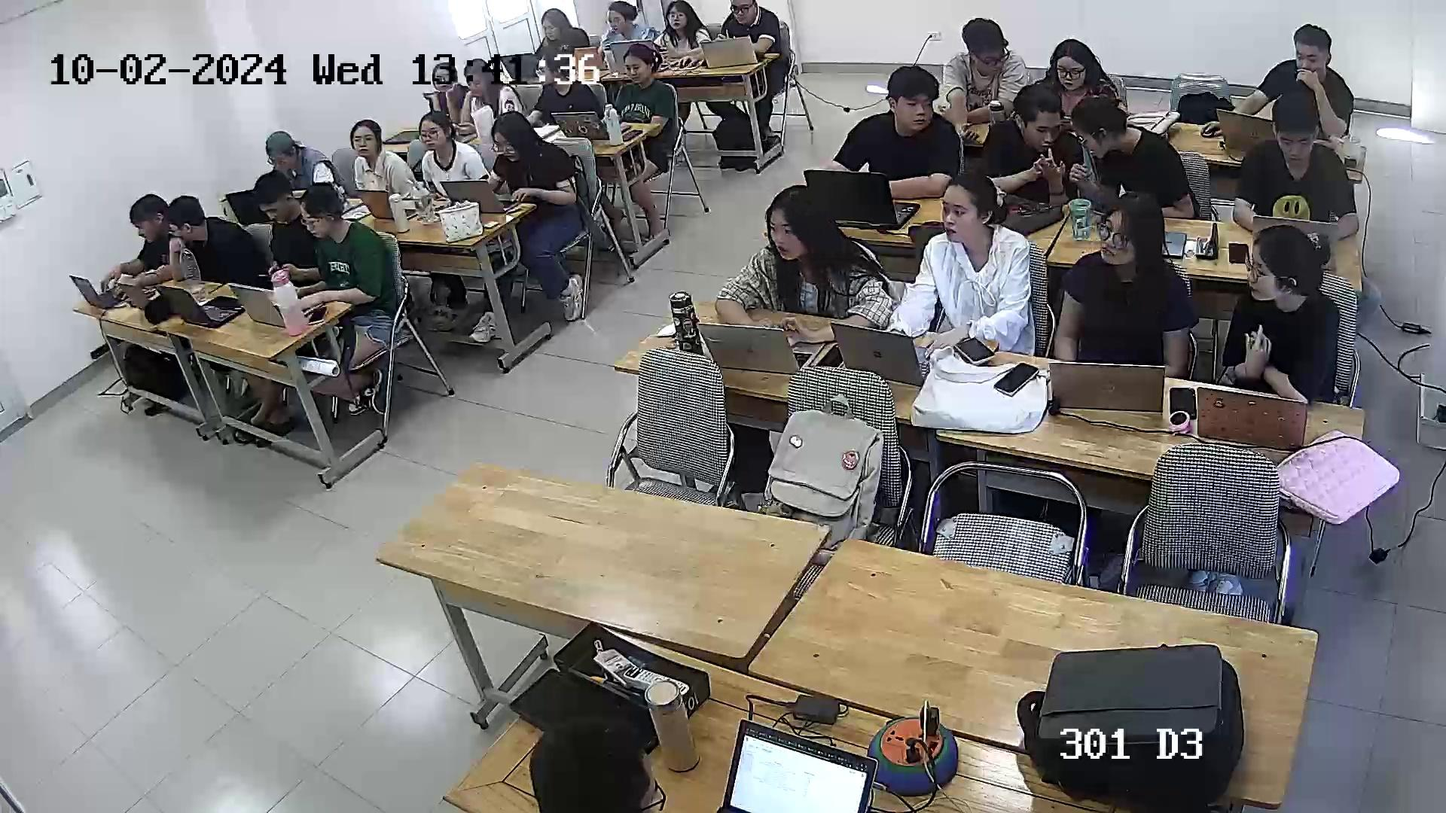Look Around: (941, 20, 1011, 80), (1064, 100, 1130, 161), (884, 64, 939, 134), (1007, 87, 1063, 151)
